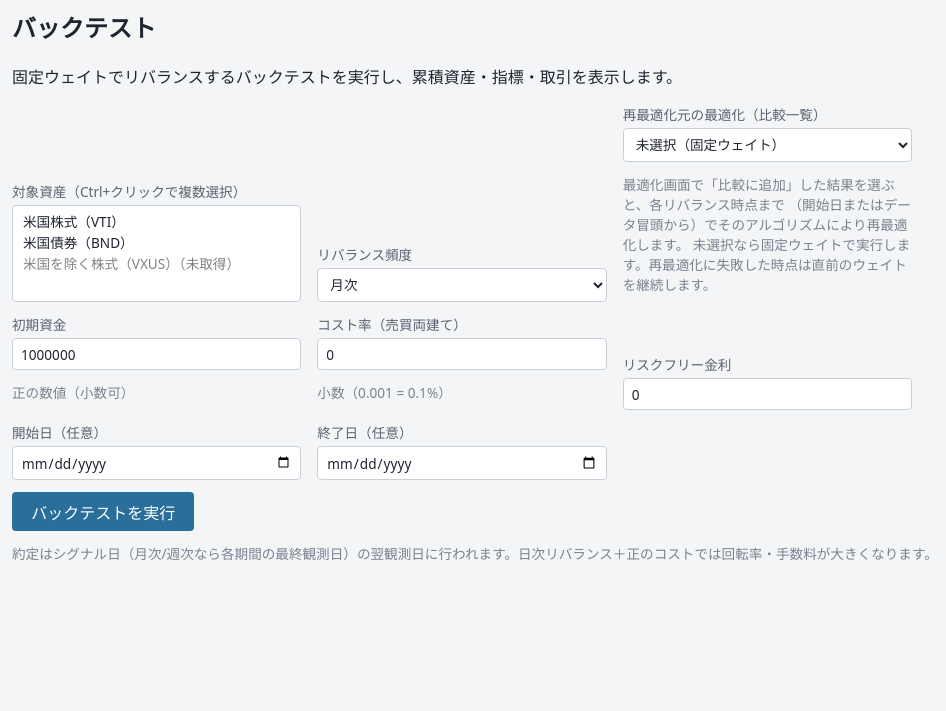
Scenario: BacktestScreen › ウェイト合計が 1 でないとエラー（fetch しない）
Select "us_equity, us_bond" in the dropdown labelled "対象資産（Ctrl+クリックで複数選択）" at (157, 253), box [12,205,301,302]
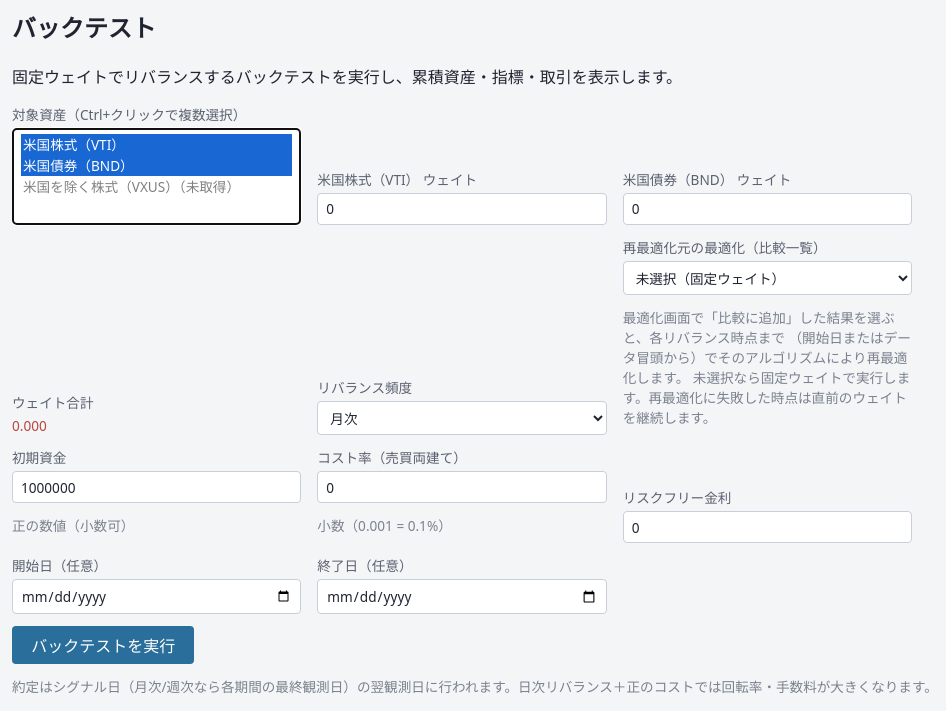
Replace the text in the number field labelled "米国株式（VTI） ウェイト" with "0.2" at (462, 209), box [317,193,607,225]
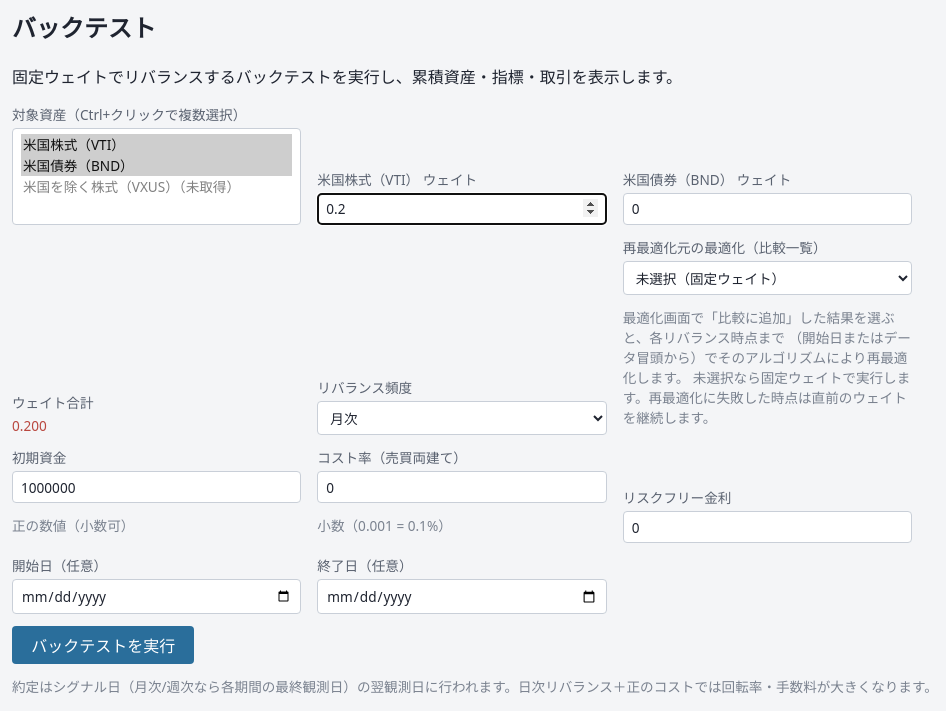
Replace the text in the number field labelled "米国債券（BND） ウェイト" with "0.2" at (767, 209), box [623,193,912,225]
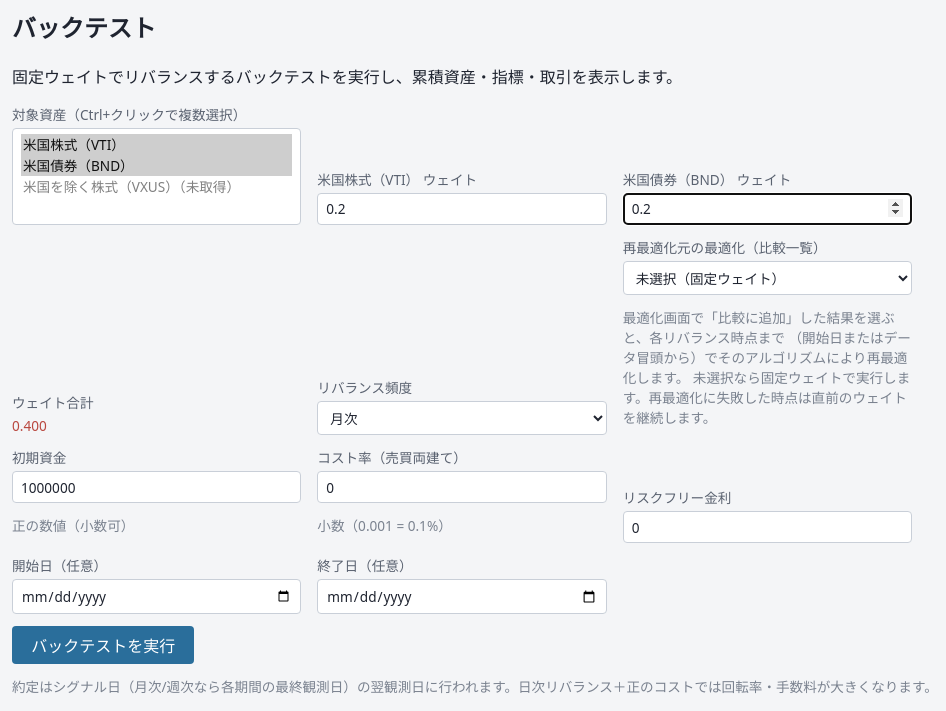
Submit the form named "バックテストを実行"
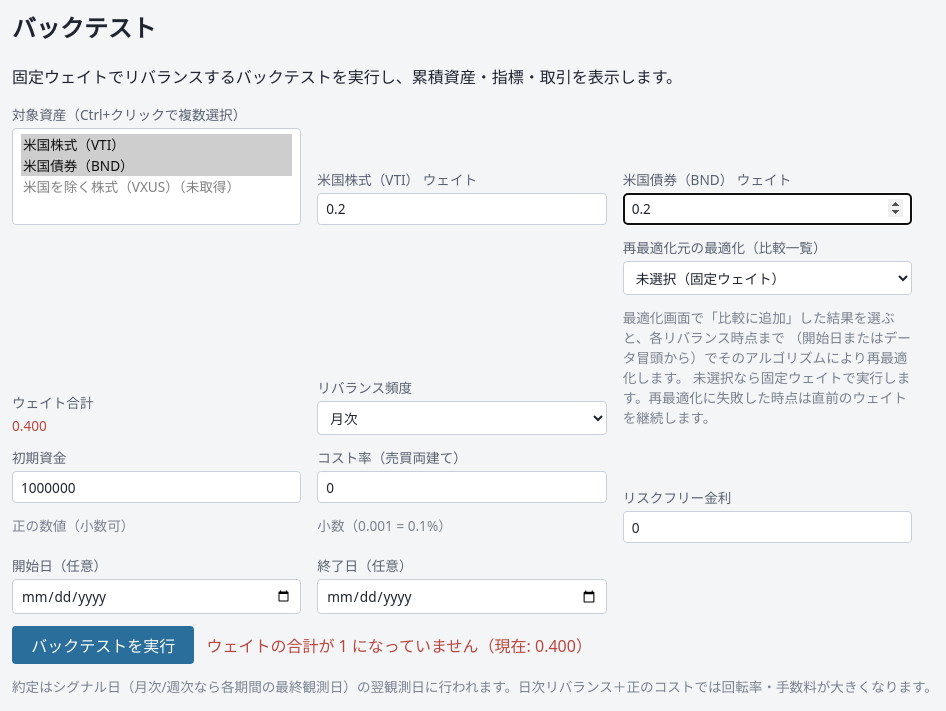
Check: the text "ウェイトの合計が 1 になっていません（現在: 0.400）" is shown, box [206,633,592,657]
